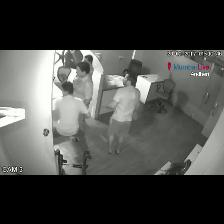person: (107, 76, 140, 153), (53, 81, 91, 140), (73, 62, 93, 108), (73, 62, 93, 107), (84, 55, 93, 76)
